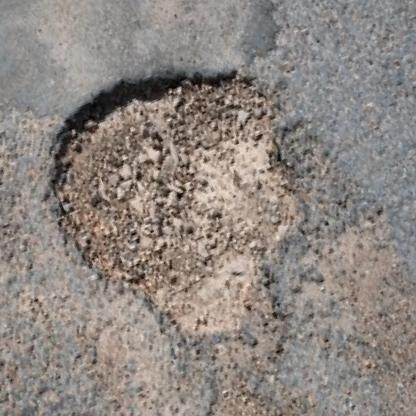pothole: (13, 27, 346, 381)
